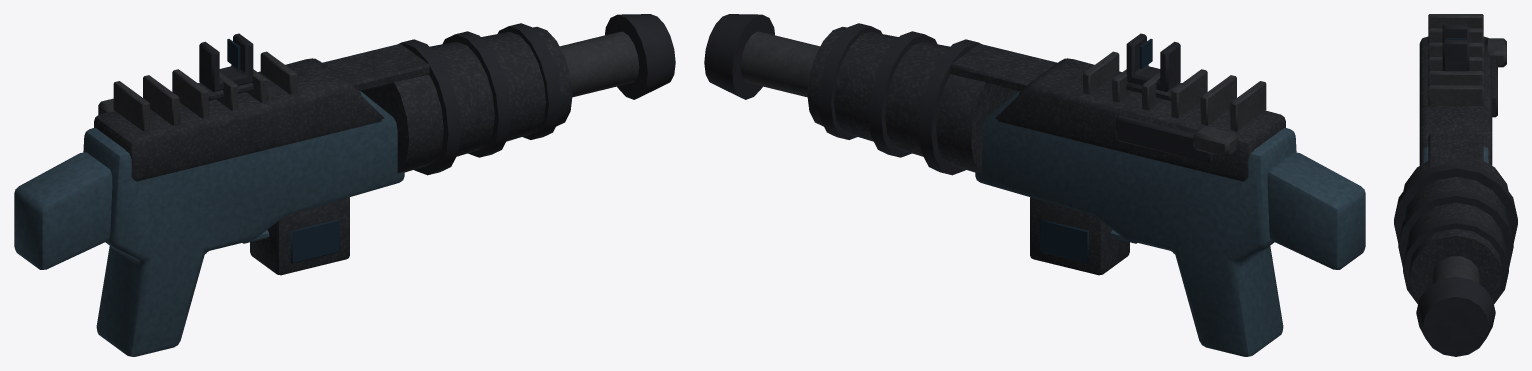
Rendered from blaster_r1.fbx.
The picture shows the model from 3 angles, left to right: view 1: azimuth 30°, elevation 25°; view 2: azimuth 150°, elevation 25°; view 3: azimuth 270°, elevation 25°; orthographic projection. The views are drawn at different scales.
Visible parts, largest first — view 1: Body, Magazine; view 2: Body, Magazine, Bolt; view 3: Body, Bolt.
Part boxes in pixels (<box>): Body: <box>14,14,675,356</box>; Magazine: <box>250,197,349,275</box>; Body: <box>704,14,1365,356</box>; Magazine: <box>1030,197,1129,275</box>; Bolt: <box>1116,115,1237,162</box>; Body: <box>1394,14,1517,356</box>; Bolt: <box>1485,38,1506,117</box>.
Bounding box in the file's own units: 6 × 2.52 × 1.12.
Materials: 1 (1 with a texture image).
